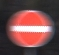No entry: (5, 6, 54, 50)
